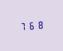eight: (35, 19, 42, 30)
seven: (18, 21, 25, 31)
six: (27, 20, 34, 30)
